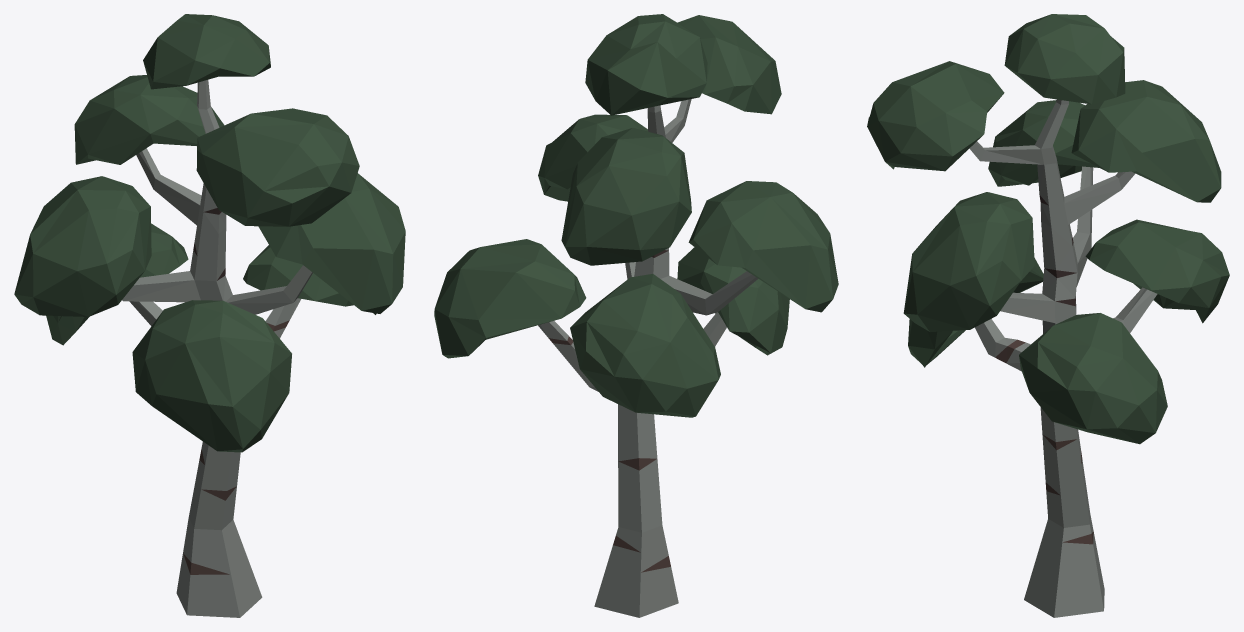
File: tree_birch.glb
The picture shows the model from 3 angles, left to right: view 1: azimuth 30°, elevation 25°; view 2: azimuth 150°, elevation 25°; view 3: azimuth 270°, elevation 25°; orthographic projection. The views are drawn at different scales.
Parts seen in each view (by area): view 1: SM_Env_TreeBirch_01; view 2: SM_Env_TreeBirch_01; view 3: SM_Env_TreeBirch_01.
Part boxes in pixels (x1,y1,x2,y2): SM_Env_TreeBirch_01: [14, 14, 405, 617]; SM_Env_TreeBirch_01: [434, 14, 838, 617]; SM_Env_TreeBirch_01: [867, 14, 1229, 617].
Bounding box in the file's own units: 403 × 592 × 338.
1 material, 1 textured.
